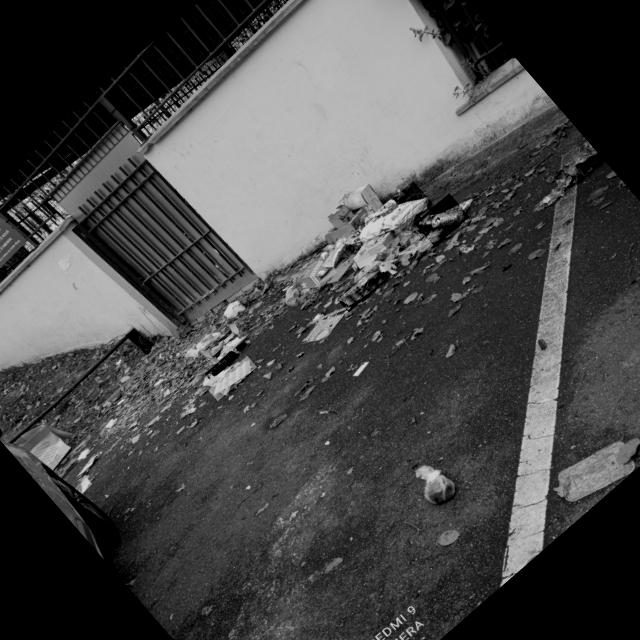Garbage bag: (352, 181, 433, 257)
Other Carton: (337, 264, 389, 312), (290, 252, 338, 298), (208, 356, 257, 400), (181, 324, 223, 363)
Other plastic bottle: (206, 350, 238, 380)
Other plastic wrapper: (414, 192, 470, 246)
